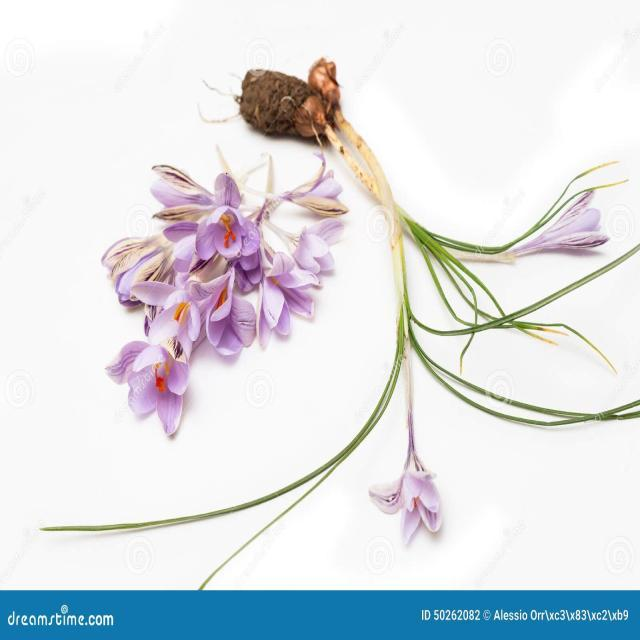Flower: (97, 163, 343, 414), (372, 416, 463, 566), (532, 182, 618, 274)
